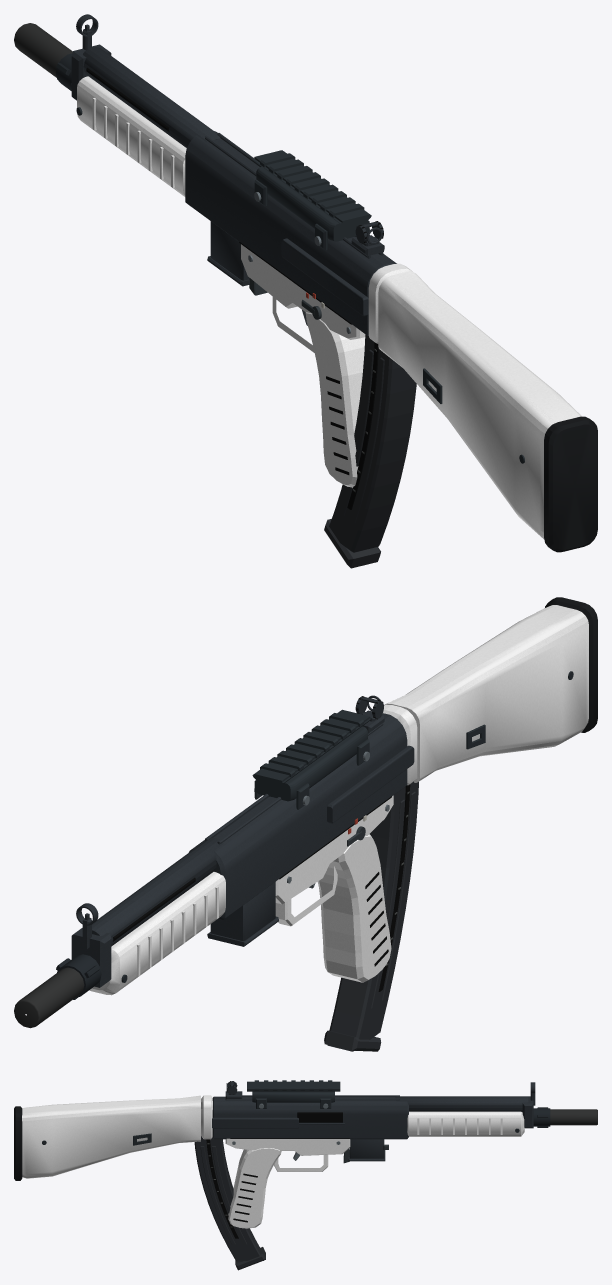
File: weapon-75-igiQ0TsT.glb
The picture shows the model from 3 angles, top to bottom: view 1: azimuth 30°, elevation 25°; view 2: azimuth 150°, elevation 25°; view 3: azimuth 270°, elevation 25°; orthographic projection. The views are drawn at different scales.
Visible parts, largest first — view 1: salient_weapon_body, salient_weapon_stock, salient_weapon_magazine, salient_weapon_mount, salient_weapon_iron; view 2: salient_weapon_body, salient_weapon_stock, salient_weapon_magazine, salient_weapon_mount, salient_weapon_iron; view 3: salient_weapon_body, salient_weapon_stock, salient_weapon_magazine, salient_weapon_mount, salient_weapon_iron.
Part boxes in pixels (<box>): salient_weapon_body: <box>14,23,412,487</box>; salient_weapon_stock: <box>378,271,597,552</box>; salient_weapon_magazine: <box>324,334,416,568</box>; salient_weapon_mount: <box>252,150,371,250</box>; salient_weapon_iron: <box>76,14,384,255</box>; salient_weapon_body: <box>14,704,417,1028</box>; salient_weapon_stock: <box>384,597,597,782</box>; salient_weapon_magazine: <box>324,781,418,1051</box>; salient_weapon_mount: <box>252,709,371,809</box>; salient_weapon_iron: <box>76,695,384,949</box>; salient_weapon_body: <box>201,1095,597,1228</box>; salient_weapon_stock: <box>14,1095,200,1180</box>; salient_weapon_magazine: <box>194,1136,265,1270</box>; salient_weapon_mount: <box>247,1080,340,1108</box>; salient_weapon_iron: <box>225,1081,535,1105</box>.
Bounding box in the file's own units: 0.0342 × 0.2218 × 0.637.
23 materials, 6 textured.
